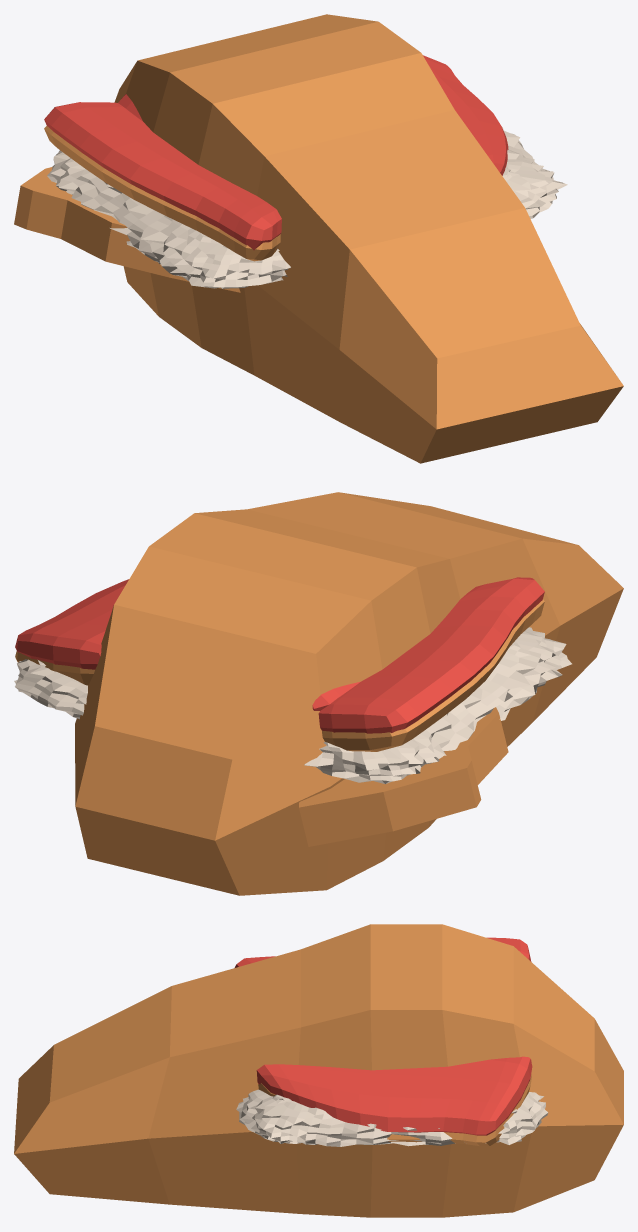
The model's file is salmonrice.glb.
The picture shows the model from 3 angles, top to bottom: view 1: azimuth 30°, elevation 25°; view 2: azimuth 150°, elevation 25°; view 3: azimuth 270°, elevation 25°; orthographic projection. The views are drawn at different scales.
Parts seen in each view (by area): view 1: Salmon, choppedtuna, spreadrice, Plane, choppedsalmon; view 2: Salmon, choppedtuna, spreadrice, Plane, choppedsalmon; view 3: Salmon, choppedtuna, spreadrice, choppedsalmon.
Part boxes in pixels (x1,y1,x2,y2): Salmon: [114, 14, 623, 463]; choppedtuna: [44, 55, 508, 250]; spreadrice: [47, 127, 567, 288]; Plane: [14, 167, 240, 292]; choppedsalmon: [44, 126, 280, 261]; Salmon: [75, 492, 623, 895]; choppedtuna: [15, 577, 544, 733]; spreadrice: [14, 627, 571, 784]; Plane: [299, 707, 508, 846]; choppedsalmon: [15, 599, 544, 751]; Salmon: [14, 924, 623, 1217]; choppedtuna: [234, 937, 532, 1135]; spreadrice: [236, 1089, 548, 1146]; choppedsalmon: [258, 1074, 531, 1146].
Size of the model in its own units: 3.78 by 2 by 5.44.
